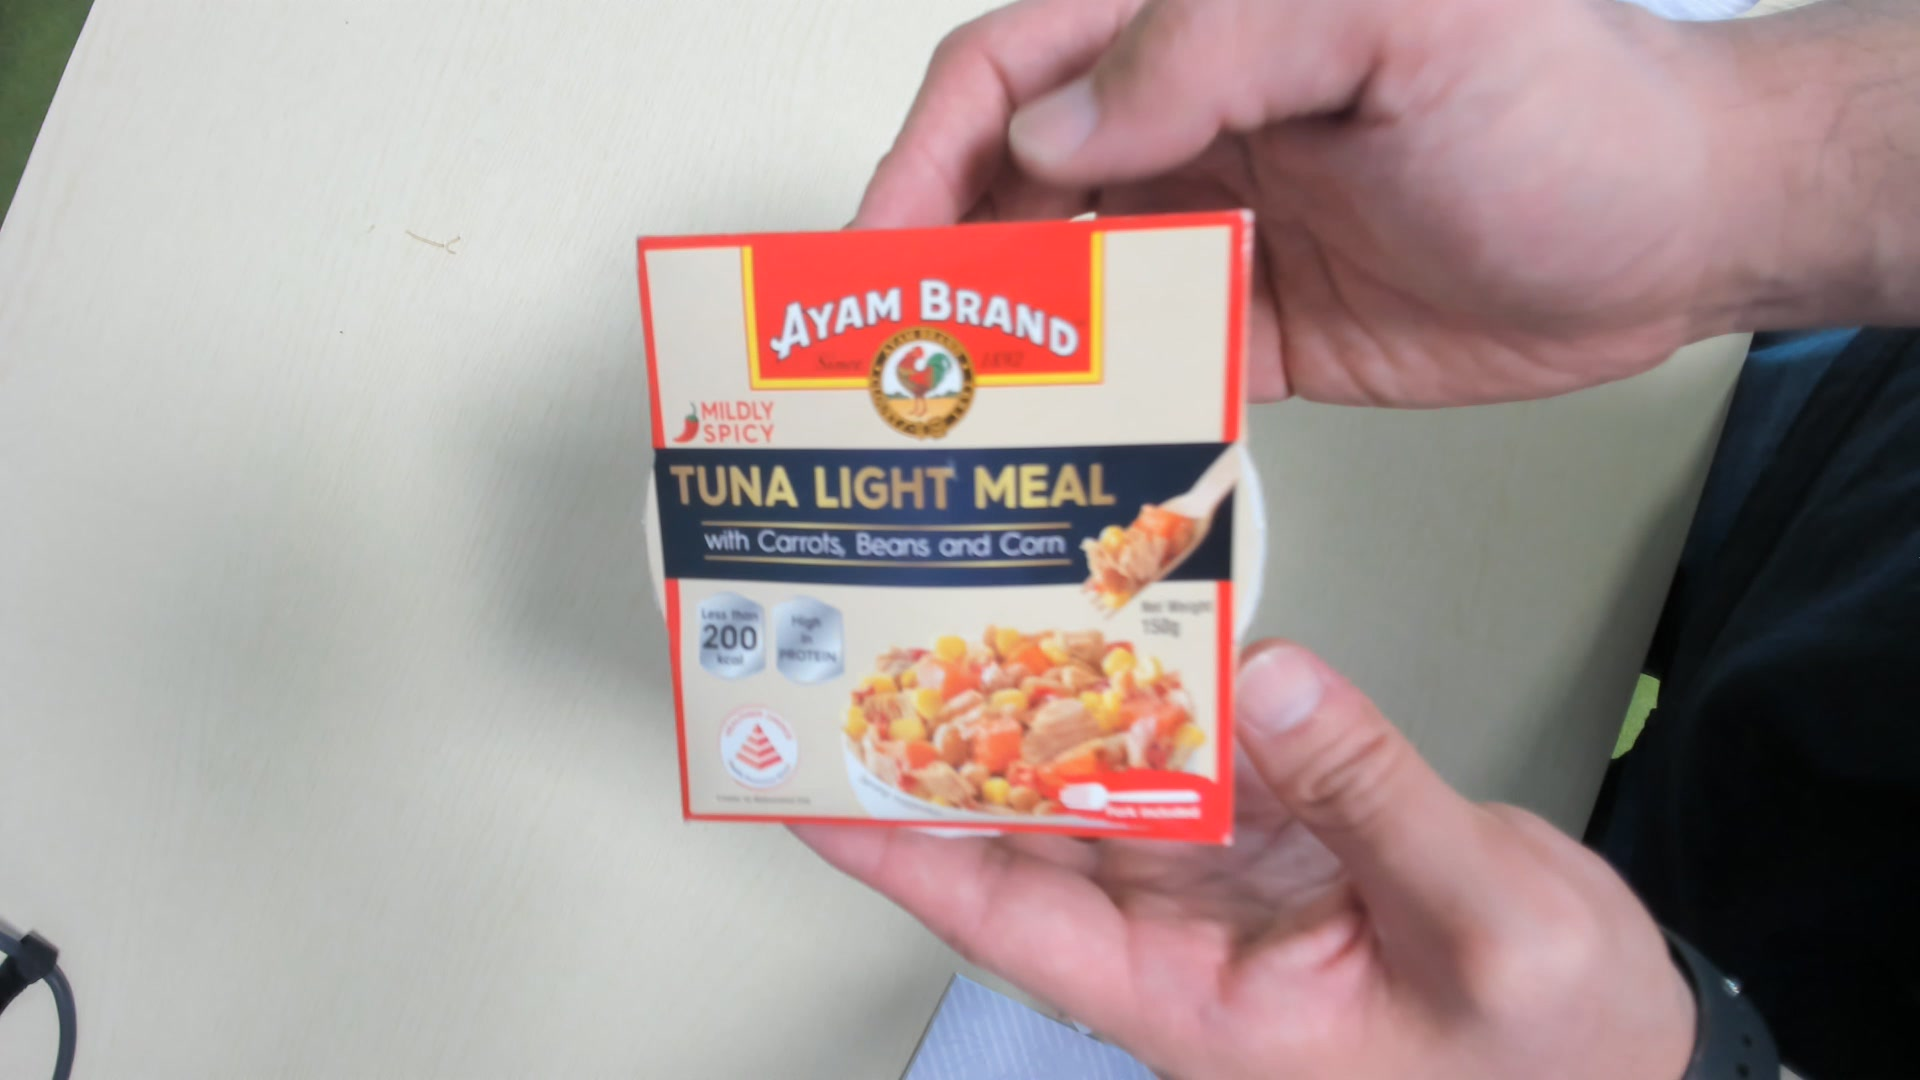InstantMeals_100-199g_NonHalal_Healthy: (609, 210, 1254, 847)
